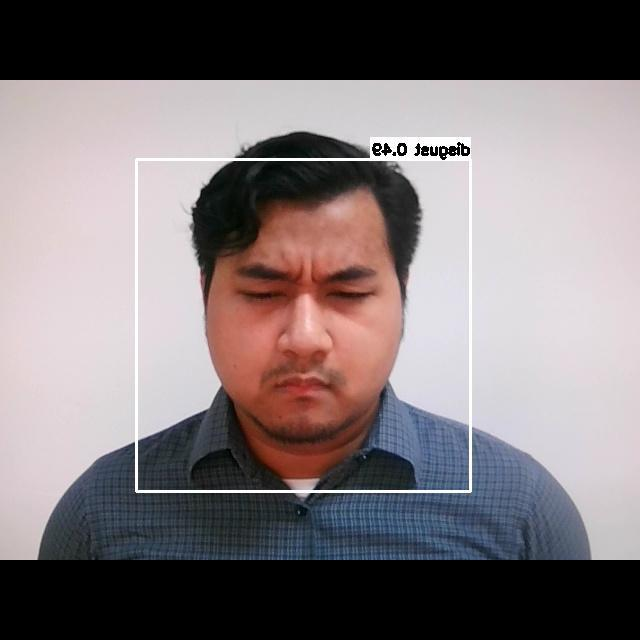Angry: (204, 225, 409, 411)
